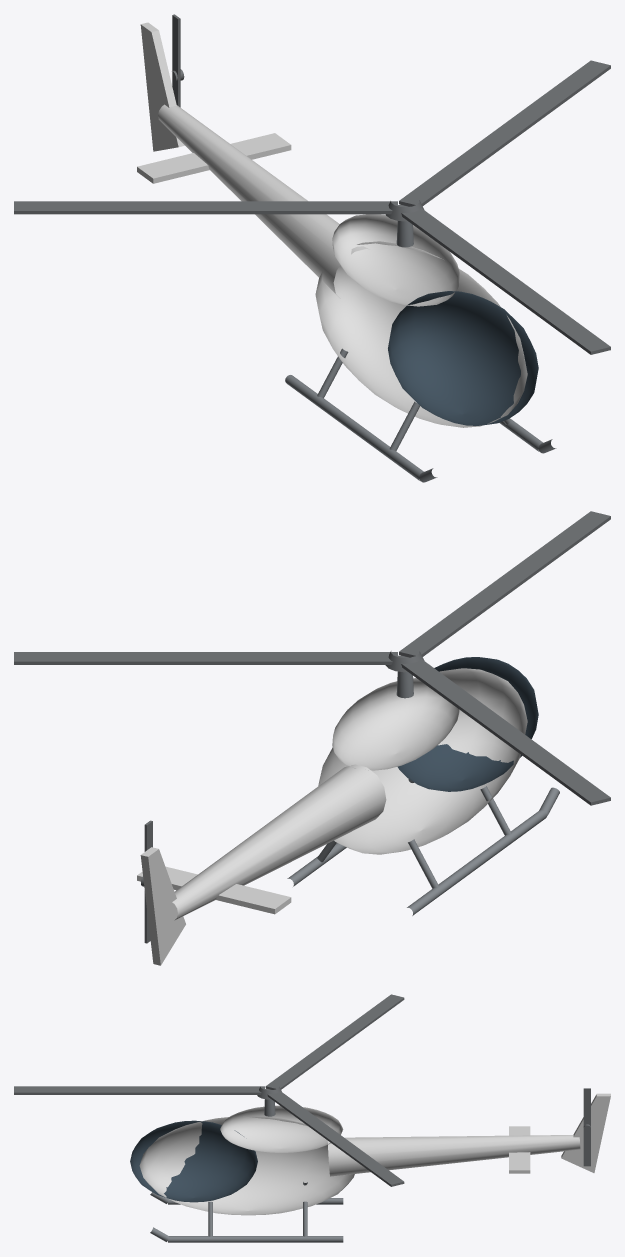
The model's file is heli.glb.
3 views of the same model, one above another, from view 1: azimuth 30°, elevation 25°; view 2: azimuth 150°, elevation 25°; view 3: azimuth 270°, elevation 25° (orthographic). The views are drawn at different scales.
Visible parts, largest first — view 1: fuselagem, rotor_principal, rotor_cauda; view 2: fuselagem, rotor_principal; view 3: fuselagem, rotor_principal, rotor_cauda.
Boxes of the visible parts, left/top/right/bottom form: fuselagem: left=137, top=22, right=556, bottom=482; rotor_principal: left=14, top=60, right=610, bottom=354; rotor_cauda: left=172, top=14, right=184, bottom=107; fuselagem: left=137, top=657, right=559, bottom=965; rotor_principal: left=14, top=511, right=610, bottom=805; fuselagem: left=130, top=1093, right=610, bottom=1242; rotor_principal: left=14, top=994, right=404, bottom=1186; rotor_cauda: left=583, top=1088, right=590, bottom=1166.
Bounding box in the file's own units: 9.51 × 3.24 × 12.6.
